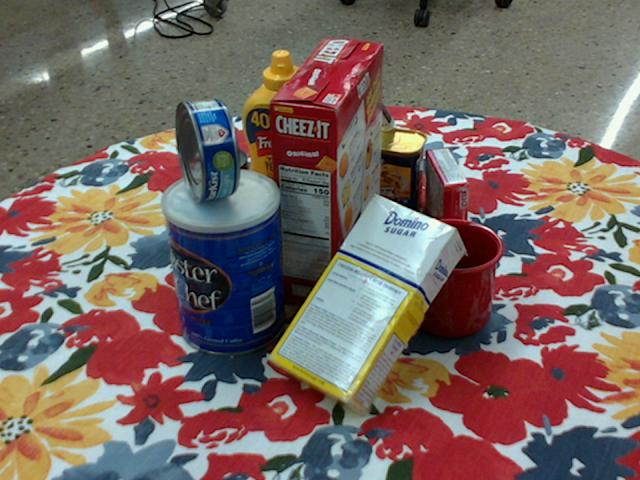cracker_box: (267, 39, 384, 312)
gelatin_box: (426, 146, 469, 243)
large_marker: (356, 78, 395, 130)
master_chef_can: (162, 169, 284, 359)
mug: (374, 217, 503, 337)
mustard_bottle: (242, 50, 332, 224)
potted_meat_can: (334, 122, 427, 214)
sugar_box: (268, 195, 465, 421)
tomato_soup_can: (182, 144, 253, 258)
tuna_fish_can: (174, 98, 240, 202)
